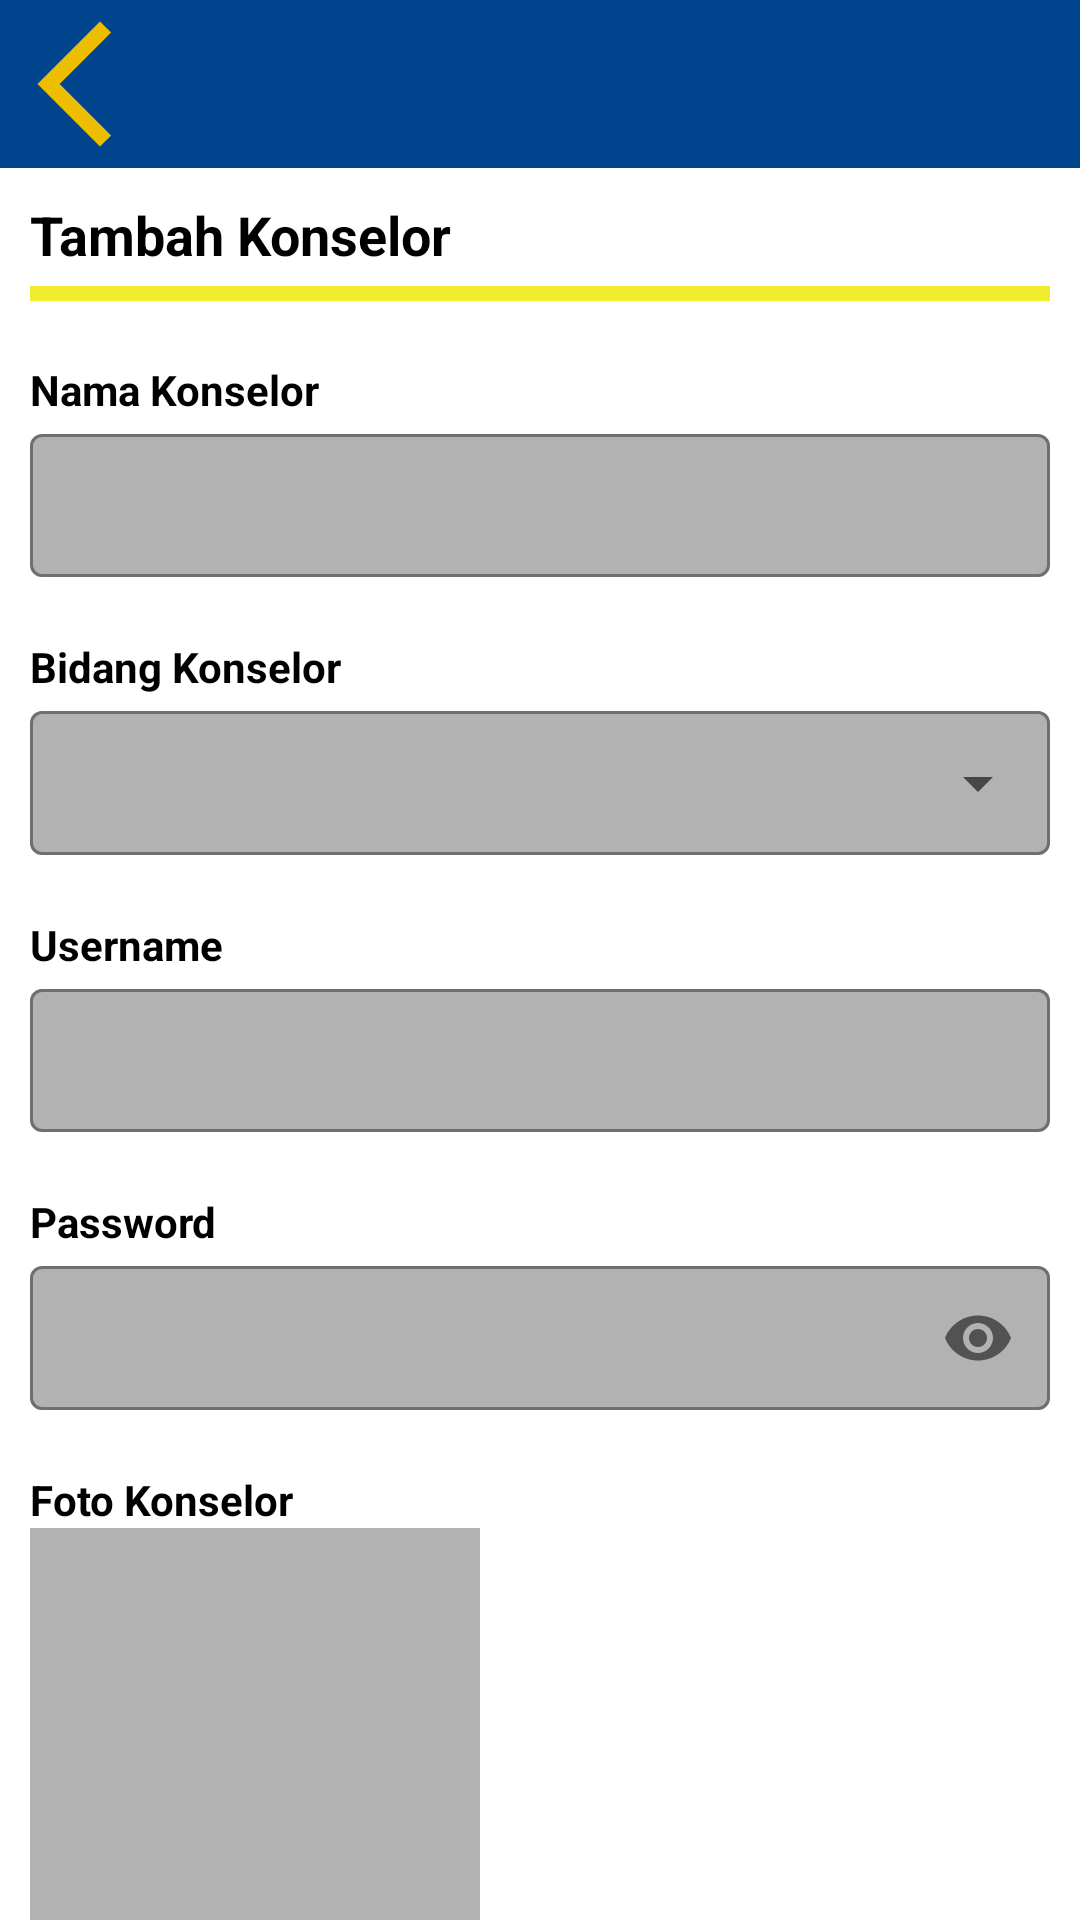

Named icons in this screenshot (1080px×1920px) and their bounding boxes, [left=x1, top=y1, right=x2, bottom=y2]:
arrow back: [left=37, top=21, right=111, bottom=147]
